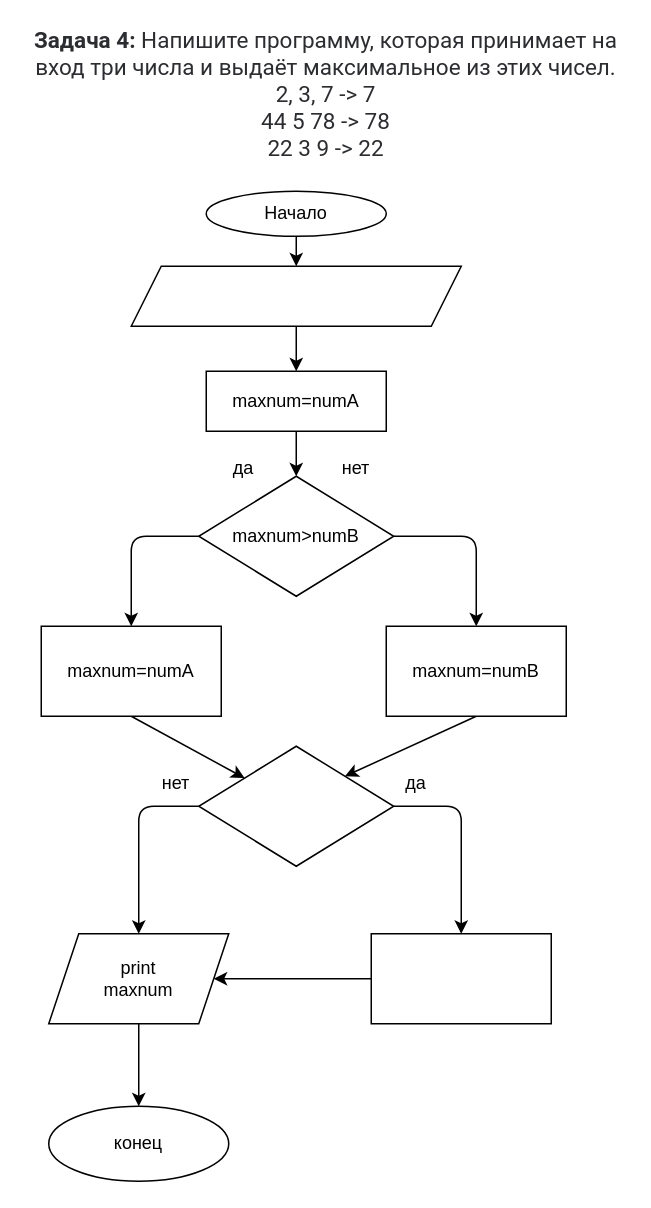
Image size: 651x1208. Some labels were removed from this diagram. The shapes that lost their labels are listed below. From the top down, each one's box as (x1, y1, x2, y2) in pixels, then its label:
(130, 265, 461, 326): numA,numB,numC maxnum=0
(197, 745, 394, 866): maxnum>numC
(370, 932, 551, 1024): maxnum=numC
